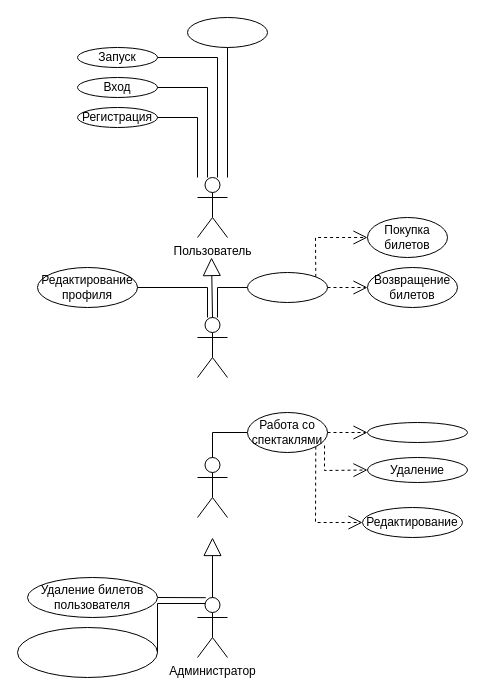
Image size: 485x696. Some labels were removed from this diagram. The shapes that lost their labels are listed below. From the top down, each one's centre as x and y in pixels, then its label:
At pixel 227 32: "Просмотр билетов".
At pixel 287 287: "Работа с билетами".
At pixel 212 347: "Авторизированный".
At pixel 417 432: "Создание".
At pixel 212 487: "Менеджер".
At pixel 87 652: "Редактирование билетов пользователя".
